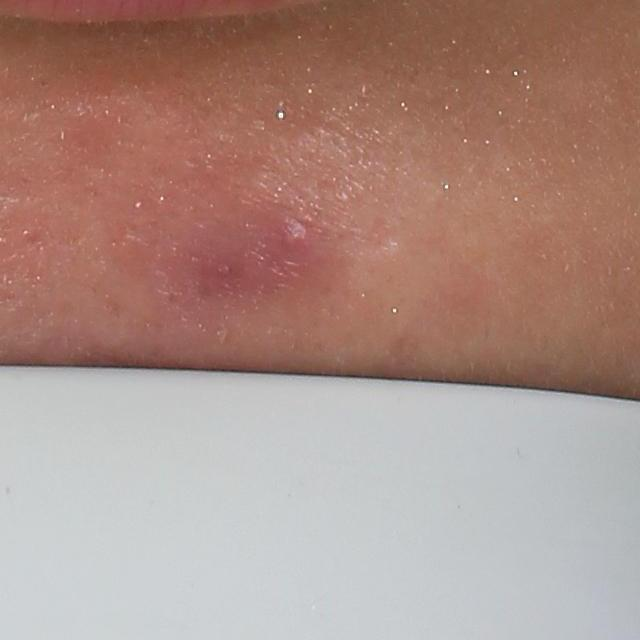papule: (276, 214, 315, 259)
